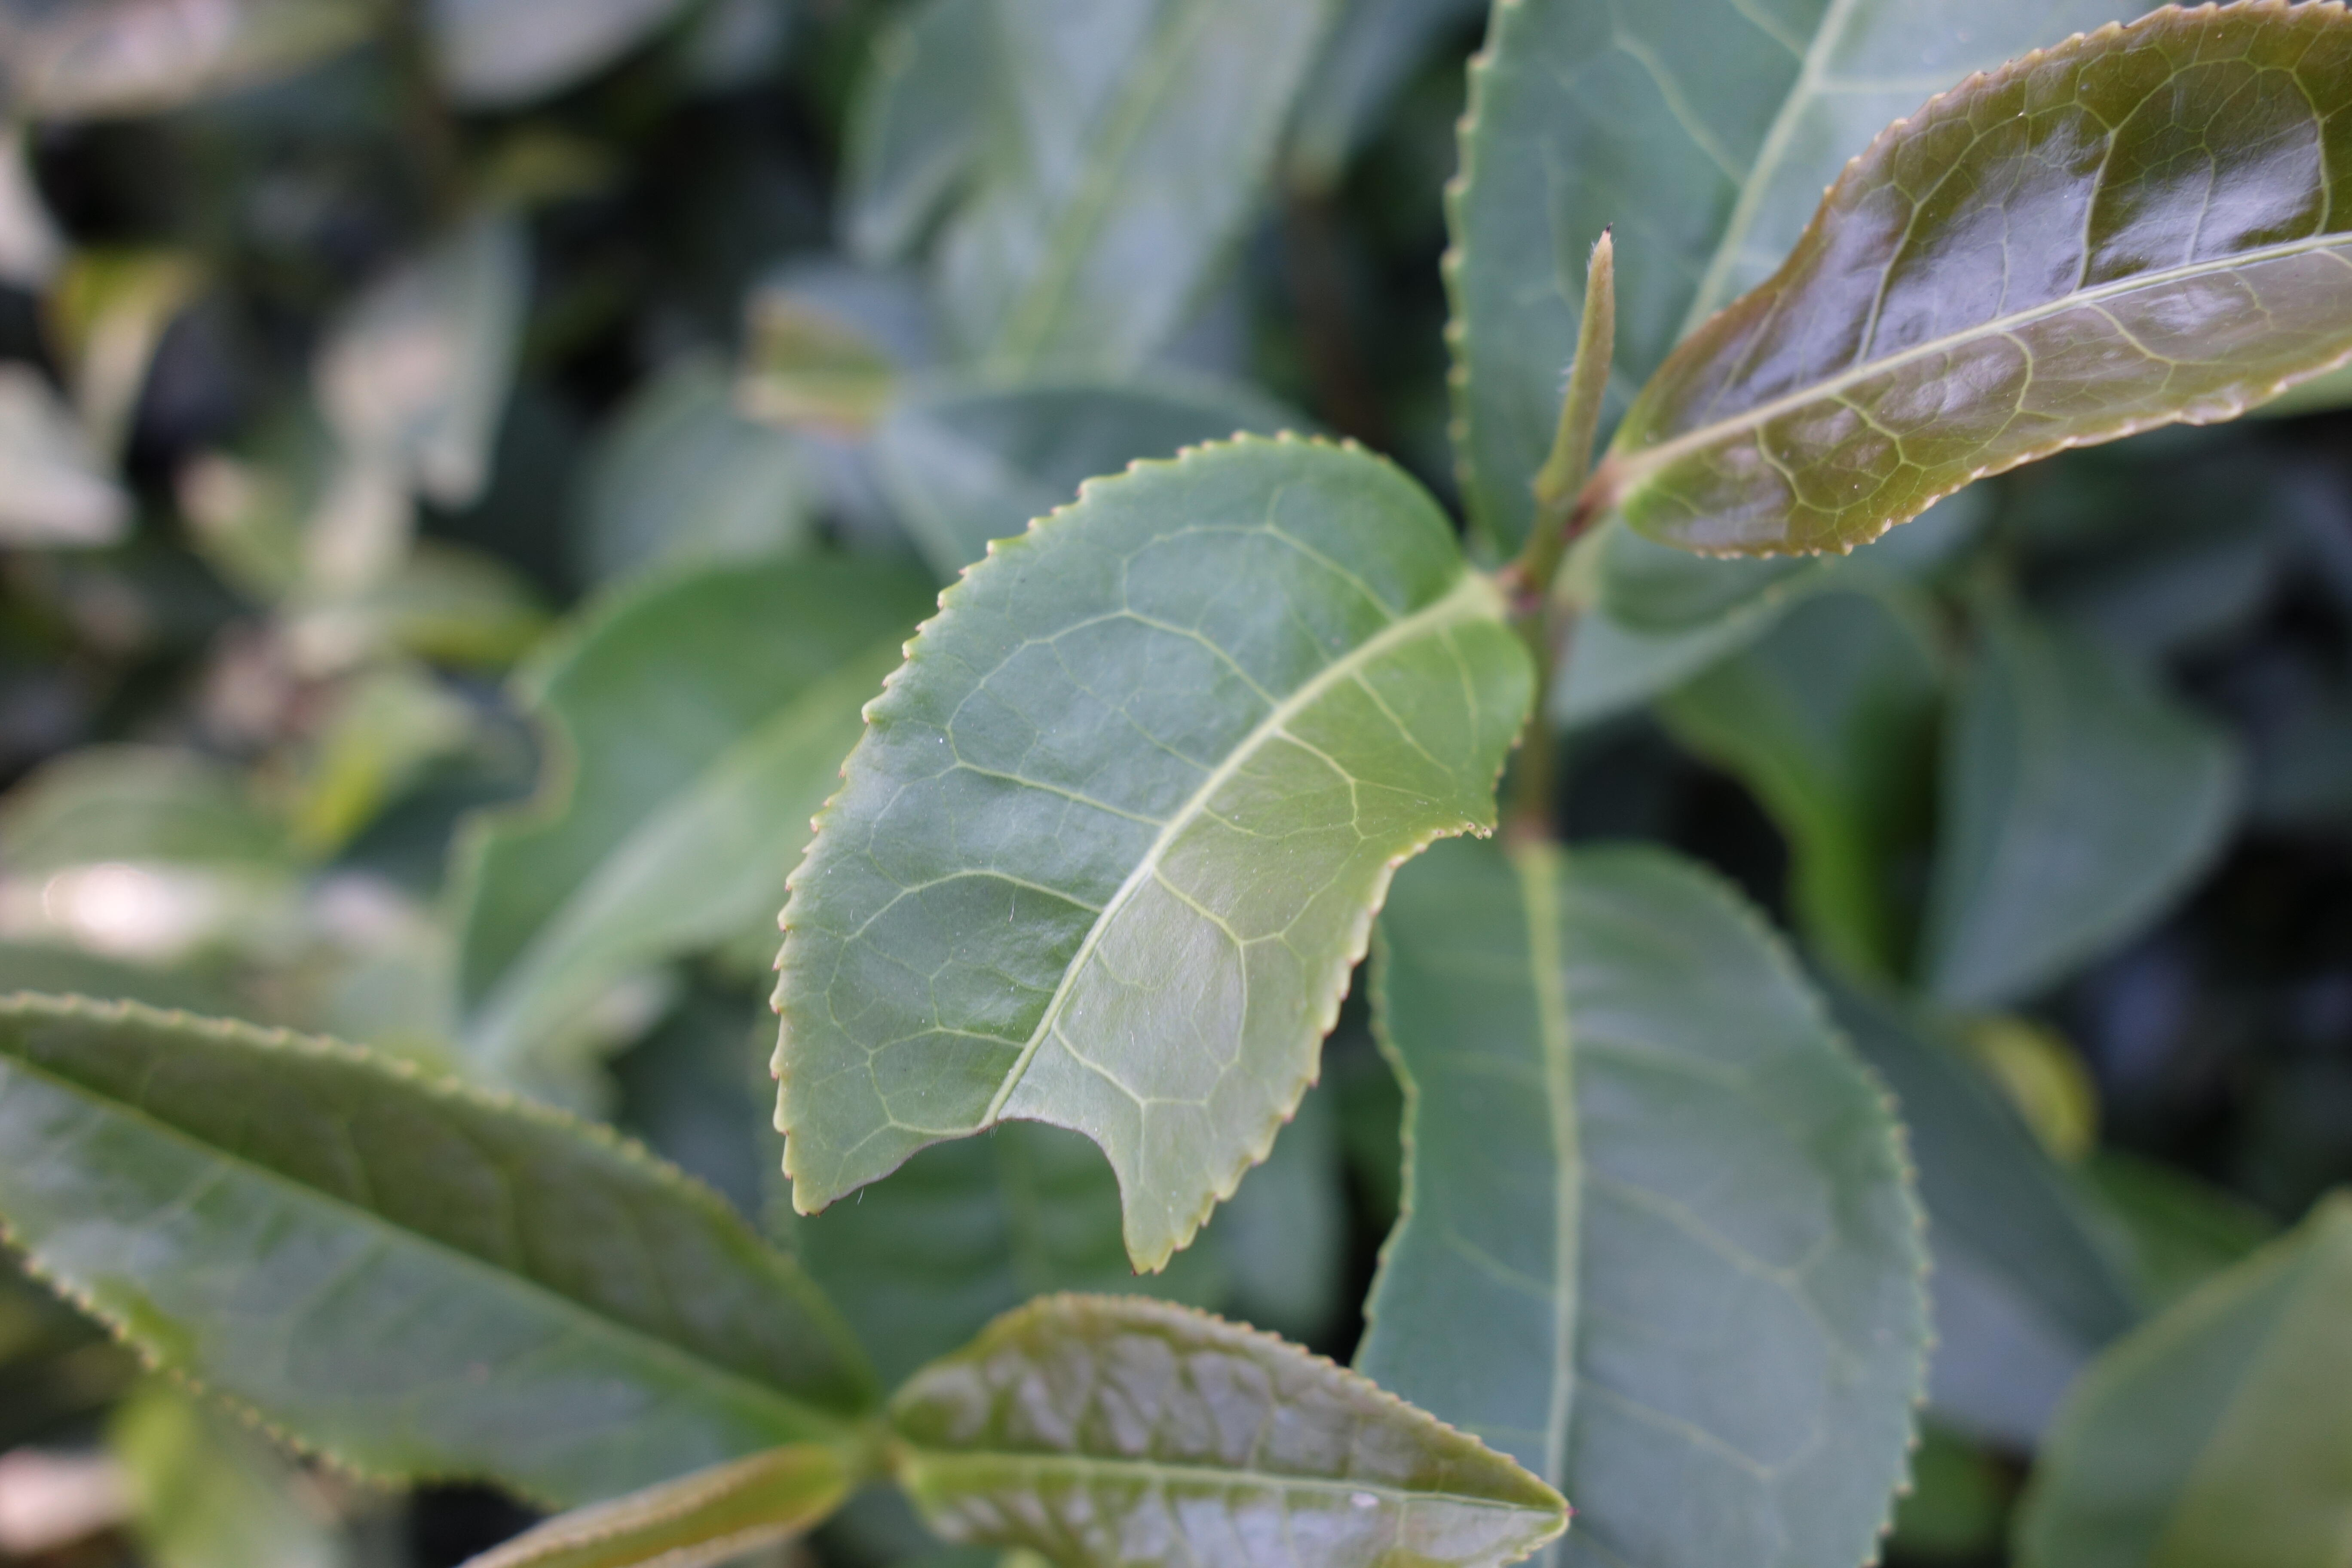chihuo_low: (768, 427, 1538, 1276)
tanju_low: (1571, 2, 2347, 558), (878, 1293, 1580, 1564)
